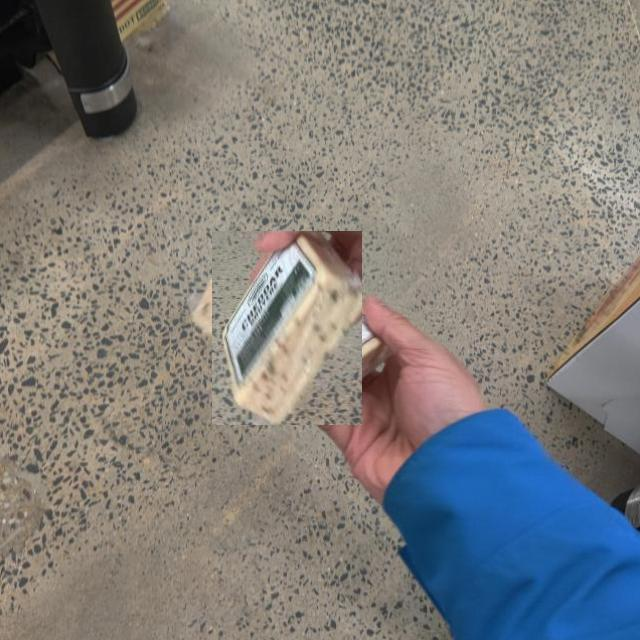Cheese: (212, 230, 362, 425)
